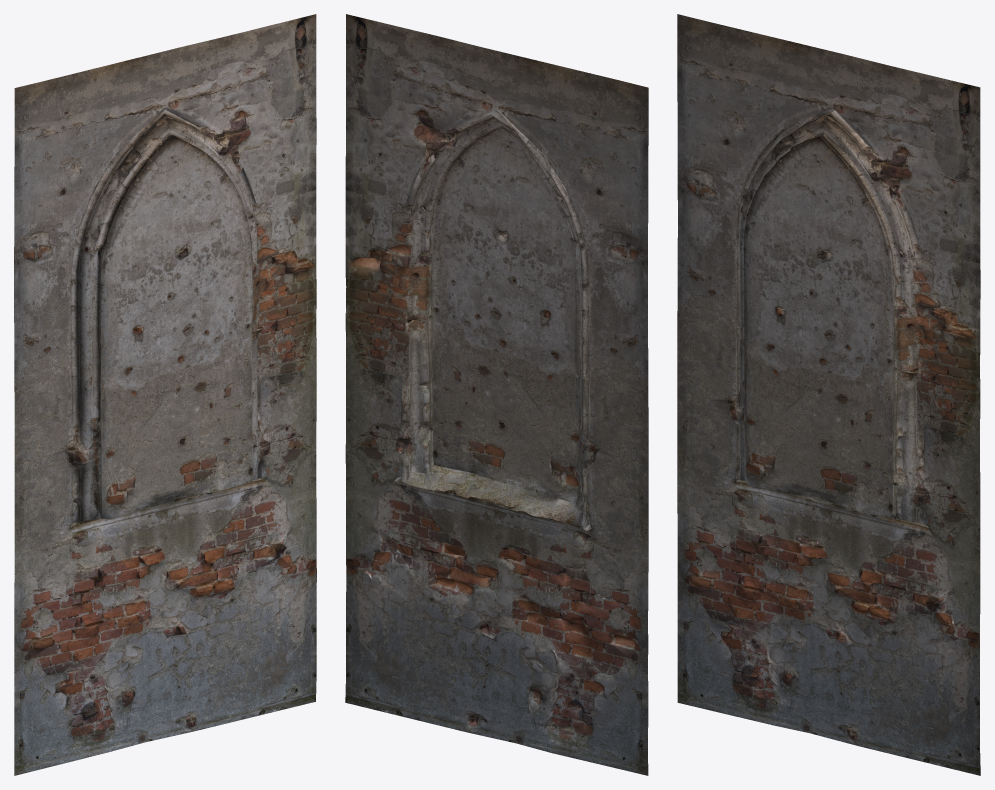
Rendered from SM_ChapelWall_01_04_OneSide.fbx.
The picture shows the model from 3 angles, left to right: view 1: azimuth 30°, elevation 25°; view 2: azimuth 150°, elevation 25°; view 3: azimuth 330°, elevation 25°; orthographic projection.
Visible parts, largest first — view 1: sm_ChapelWall_01_04_OneSide_LOD0; view 2: sm_ChapelWall_01_04_OneSide_LOD0; view 3: sm_ChapelWall_01_04_OneSide_LOD0.
Part boxes in pixels (x1=…): sm_ChapelWall_01_04_OneSide_LOD0: x1=14, y1=14, x2=316, y2=775; sm_ChapelWall_01_04_OneSide_LOD0: x1=345, y1=14, x2=648, y2=775; sm_ChapelWall_01_04_OneSide_LOD0: x1=677, y1=14, x2=980, y2=775.
Bounding box in the file's own units: 27.61 × 250 × 544.
